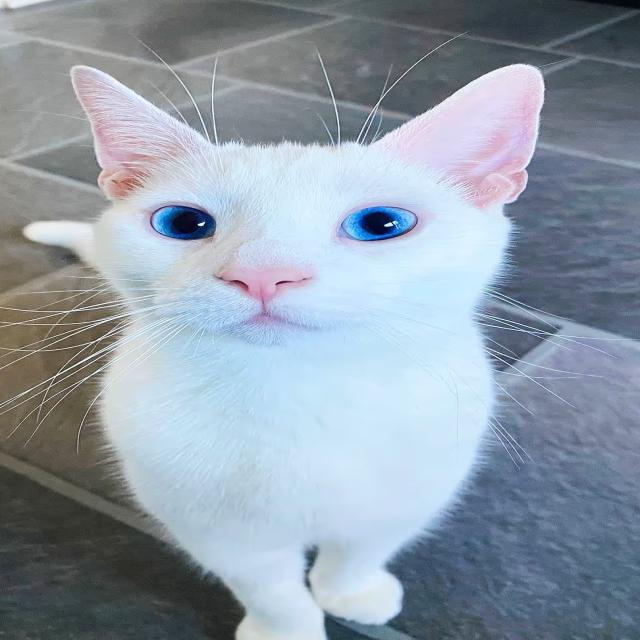Khao Manee: (14, 57, 554, 640)
